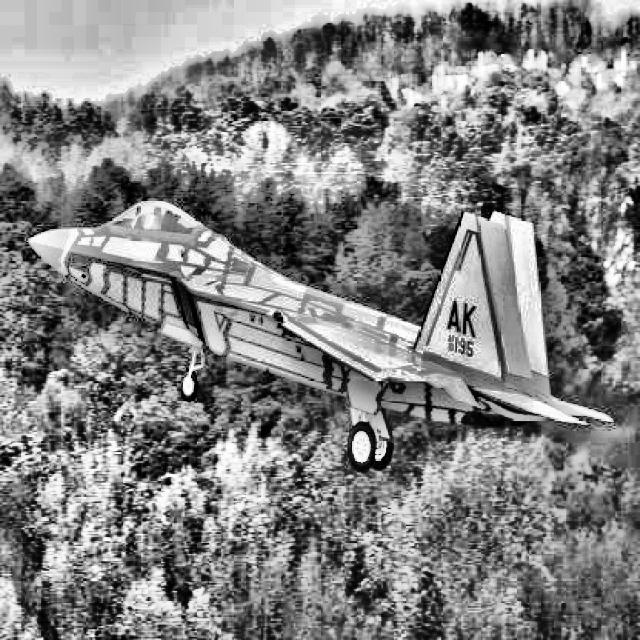F22: (28, 198, 614, 472)
